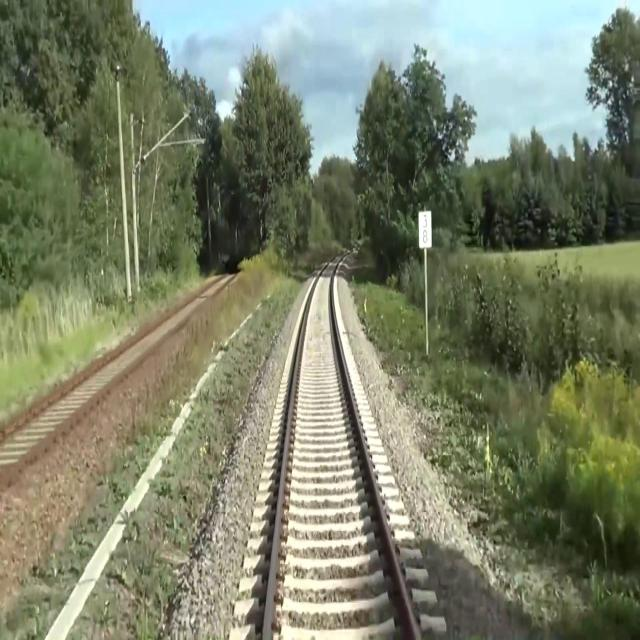rail-track: (269, 248, 416, 639), (0, 269, 237, 475)
